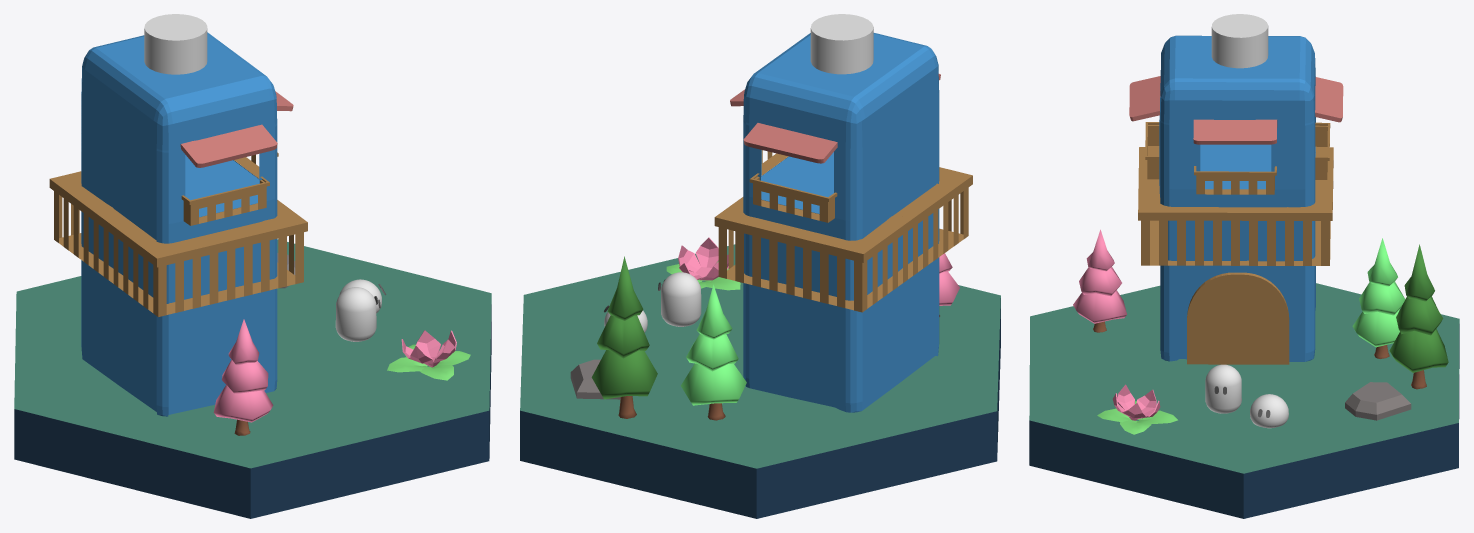
File: Macro - housing lv3.fbx
The picture shows the model from 3 angles, left to right: view 1: azimuth 30°, elevation 25°; view 2: azimuth 150°, elevation 25°; view 3: azimuth 270°, elevation 25°; orthographic projection. The views are drawn at different scales.
Parts seen in each view (by area): view 1: Cylinder.154, Roundcube.002, Plane.008, Tree_Spruce_tiny_01.009, bottle.002, Plane.014, Plane.012, Sphere.004, pink_water_lily_2_open.001, Plane.010; view 2: Cylinder.154, Roundcube.002, Plane.008, Tree_Spruce_tiny_01.011, Tree_Spruce_tiny_01.010, bottle.002, Plane.015, Plane.011, Sphere.004, pink_water_lily_2_open.001, Rock Type4 04 mesh.001, Tree_Spruce_tiny_01.009; view 3: Cylinder.154, Roundcube.002, Plane.008, Cube.007, Tree_Spruce_tiny_01.011, Tree_Spruce_tiny_01.010, Tree_Spruce_tiny_01.009, bottle.002, Plane.013, Rock Type4 04 mesh.001, Plane.009, Sphere.004 (+7 smaller).
Boxes of the visible parts, x1,y1,x2,y2 form: Cylinder.154: (14,239,491,518); Roundcube.002: (81,32,277,416); Plane.008: (49,171,307,317); Tree_Spruce_tiny_01.009: (213,319,273,435); bottle.002: (144,14,207,74); Plane.014: (180,124,277,167); Plane.012: (181,176,269,225); Sphere.004: (335,287,376,341); pink_water_lily_2_open.001: (401,330,456,367); Plane.010: (387,344,470,380); Cylinder.154: (520,244,1000,518); Roundcube.002: (743,33,939,412); Plane.008: (714,167,972,312); Tree_Spruce_tiny_01.011: (591,256,657,418); Tree_Spruce_tiny_01.010: (681,284,746,420); bottle.002: (810,14,873,74); Plane.015: (743,123,837,163); Plane.011: (749,173,837,222); Sphere.004: (661,272,701,326); pink_water_lily_2_open.001: (678,237,728,280); Rock Type4 04 mesh.001: (570,359,620,399); Tree_Spruce_tiny_01.009: (939,253,959,316); Cylinder.154: (1029,283,1459,518); Roundcube.002: (1159,35,1315,361); Plane.008: (1138,147,1333,265); Cube.007: (1187,272,1289,364); Tree_Spruce_tiny_01.011: (1389,244,1448,389); Tree_Spruce_tiny_01.010: (1352,238,1405,358); Tree_Spruce_tiny_01.009: (1073,229,1126,332); bottle.002: (1211,14,1268,68); Plane.013: (1193,119,1277,144); Rock Type4 04 mesh.001: (1345,382,1411,420); Plane.009: (1194,166,1276,194); Sphere.004: (1205,364,1241,413).
Bounding box in the file's own units: 197 × 157 × 172.
